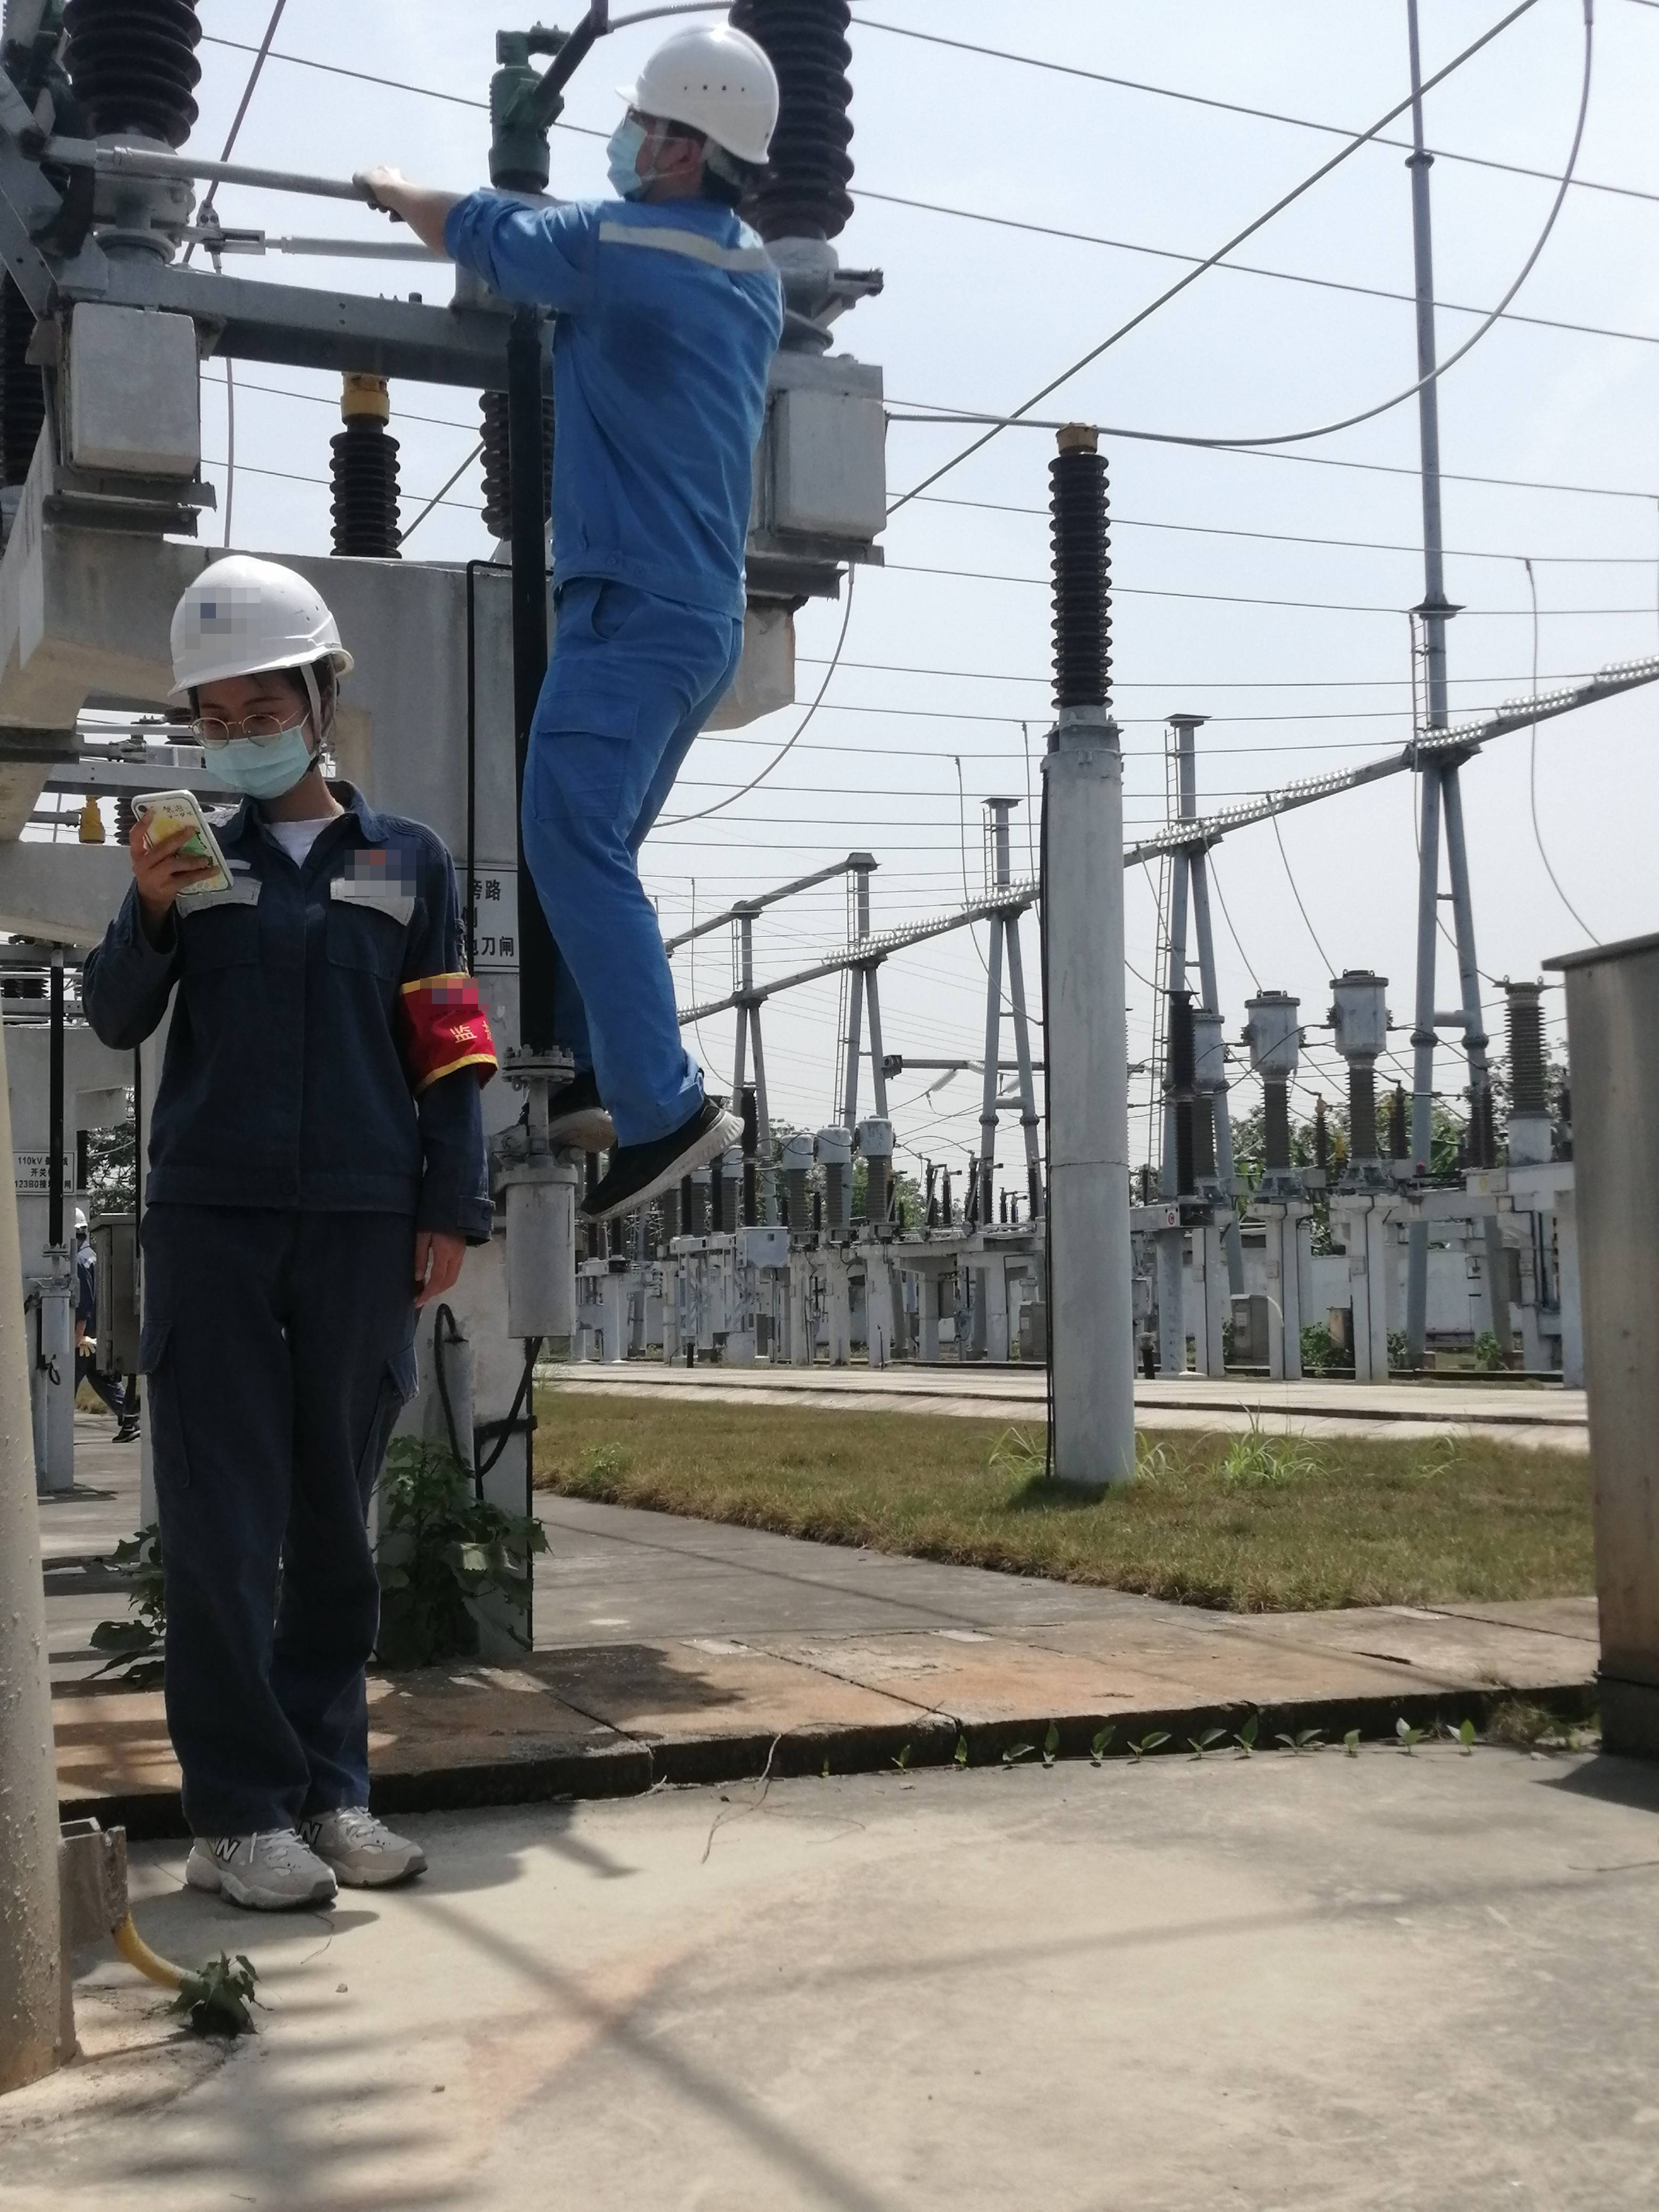downsuit: (136, 1237, 429, 1815), (533, 606, 737, 1104)
upsuit: (75, 787, 498, 1226), (450, 172, 782, 601)
wrongtop: (354, 167, 493, 256)
